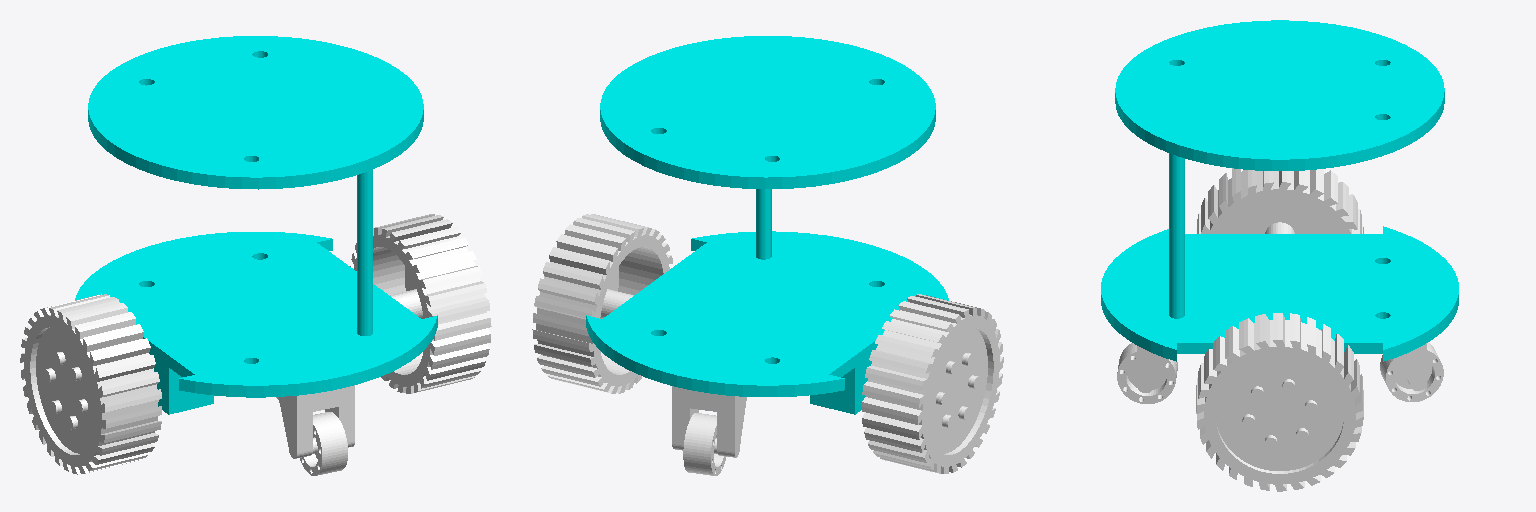
robot.urdf — steven:
<robot
  name="steven">
  <link
    name="base_link">
    <inertial>
      <origin
        xyz="-0.0086281 -0.004071 0.11646"
        rpy="0 0 0" />
      <mass
        value="0.25" />
      <inertia
        ixx="0"
        ixy="0"
        ixz="0"
        iyy="0"
        iyz="0"
        izz="0" />
    </inertial>
    <visual>
      <origin
        xyz="0 0 0"
        rpy="0 0 0" />
      <geometry>
        <mesh
          filename="package://steven/meshes/base_link.STL" />
      </geometry>
      <material
        name="">
        <color
          rgba="0 151 167 1" />
      </material>
    </visual>
    <collision>
      <origin
        xyz="0 0 0"
        rpy="0 0 0" />
      <geometry>
        <mesh
          filename="package://steven/meshes/base_link.STL" />
      </geometry>
    </collision>
  </link>
  <link
    name="motor_izquierdo_link">
    <inertial>
      <origin
        xyz="0.00025823 0.010108 0"
        rpy="0 0 0" />
      <mass
        value="0.75" />
      <inertia
        ixx="0"
        ixy="0"
        ixz="0"
        iyy="0"
        iyz="0"
        izz="0" />
    </inertial>
    <visual>
      <origin
        xyz="0 0 0"
        rpy="0 0 0" />
      <geometry>
        <mesh
          filename="package://steven/meshes/motor_izquierdo_link.STL" />
      </geometry>
      <material
        name="">
        <color
          rgba="0 188 212 1" />
      </material>
    </visual>
    <collision>
      <origin
        xyz="0 0 0"
        rpy="0 0 0" />
      <geometry>
        <mesh
          filename="package://steven/meshes/motor_izquierdo_link.STL" />
      </geometry>
    </collision>
  </link>
  <joint
    name="base_motor_izquierdo_joint"
    type="fixed">
    <origin
      xyz="0.031372 -0.11646 -0.026571"
      rpy="1.5708 0 0" />
    <parent
      link="base_link" />
    <child
      link="motor_izquierdo_link" />
    <axis
      xyz="0 0 0" />
  </joint>
  <link
    name="llanta_izquierda_link">
    <inertial>
      <origin
        xyz="-2.7756E-17 -0.02322 0"
        rpy="0 0 0" />
      <mass
        value="1.25" />
      <inertia
        ixx="0"
        ixy="0"
        ixz="0"
        iyy="0"
        iyz="0"
        izz="0" />
    </inertial>
    <visual>
      <origin
        xyz="0 0 0"
        rpy="0 0 0" />
      <geometry>
        <mesh
          filename="package://steven/meshes/llanta_izquierda_link.STL" />
      </geometry>
      <material
        name="">
        <color
          rgba="35 50 56 1" />
      </material>
    </visual>
    <collision>
      <origin
        xyz="0 0 0"
        rpy="0 0 0" />
      <geometry>
        <mesh
          filename="package://steven/meshes/llanta_izquierda_link.STL" />
      </geometry>
    </collision>
  </link>
  <joint
    name="motor_izquierdo_llanta_izquierda_joint"
    type="continuous">
    <origin
      xyz="0.01 0.01 0"
      rpy="-3.1416 -1.3248 -1.5708" />
    <parent
      link="motor_izquierdo_link" />
    <child
      link="llanta_izquierda_link" />
    <axis
      xyz="0 -1 0" />
  </joint>
  <link
    name="motor_derecho_link">
    <inertial>
      <origin
        xyz="0.00025823 0.010108 -2.7756E-17"
        rpy="0 0 0" />
      <mass
        value="0.75" />
      <inertia
        ixx="0"
        ixy="0"
        ixz="0"
        iyy="0"
        iyz="0"
        izz="0" />
    </inertial>
    <visual>
      <origin
        xyz="0 0 0"
        rpy="0 0 0" />
      <geometry>
        <mesh
          filename="package://steven/meshes/motor_derecho_link.STL" />
      </geometry>
      <material
        name="">
        <color
          rgba="0 188 212 1" />
      </material>
    </visual>
    <collision>
      <origin
        xyz="0 0 0"
        rpy="0 0 0" />
      <geometry>
        <mesh
          filename="package://steven/meshes/motor_derecho_link.STL" />
      </geometry>
    </collision>
  </link>
  <joint
    name="base_motor_derecho_joint"
    type="fixed">
    <origin
      xyz="-0.048628 -0.11646 -0.026571"
      rpy="1.5708 0 3.1416" />
    <parent
      link="base_link" />
    <child
      link="motor_derecho_link" />
    <axis
      xyz="0 0 0" />
  </joint>
  <link
    name="llanta_derecha_link">
    <inertial>
      <origin
        xyz="-8.3267E-17 -0.02322 7.2858E-17"
        rpy="0 0 0" />
      <mass
        value="1.25" />
      <inertia
        ixx="0"
        ixy="0"
        ixz="0"
        iyy="0"
        iyz="0"
        izz="0" />
    </inertial>
    <visual>
      <origin
        xyz="0 0 0"
        rpy="0 0 0" />
      <geometry>
        <mesh
          filename="package://steven/meshes/llanta_derecha_link.STL" />
      </geometry>
      <material
        name="">
        <color
          rgba="35 50 56 1" />
      </material>
    </visual>
    <collision>
      <origin
        xyz="0 0 0"
        rpy="0 0 0" />
      <geometry>
        <mesh
          filename="package://steven/meshes/llanta_derecha_link.STL" />
      </geometry>
    </collision>
  </link>
  <joint
    name="motor_derecho_llanta_derecha_joint"
    type="continuous">
    <origin
      xyz="0.01 0.01 0"
      rpy="3.1416 1.4507 -1.5708" />
    <parent
      link="motor_derecho_link" />
    <child
      link="llanta_derecha_link" />
    <axis
      xyz="0 1 0" />
  </joint>
  <link
    name="caja_delantera_link">
    <inertial>
      <origin
        xyz="0 0.0025 -1.7347E-18"
        rpy="0 0 0" />
      <mass
        value="0.125" />
      <inertia
        ixx="0"
        ixy="0"
        ixz="0"
        iyy="0"
        iyz="0"
        izz="0" />
    </inertial>
    <visual>
      <origin
        xyz="0 0 0"
        rpy="0 0 0" />
      <geometry>
        <mesh
          filename="package://steven/meshes/caja_delantera_link.STL" />
      </geometry>
      <material
        name="">
        <color
          rgba="0 188 212 1" />
      </material>
    </visual>
    <collision>
      <origin
        xyz="0 0 0"
        rpy="0 0 0" />
      <geometry>
        <mesh
          filename="package://steven/meshes/caja_delantera_link.STL" />
      </geometry>
    </collision>
  </link>
  <joint
    name="base_caja_delantera_joint"
    type="fixed">
    <origin
      xyz="-0.0086281 -0.15646 -0.011571"
      rpy="1.5708 6.123E-17 1.5708" />
    <parent
      link="base_link" />
    <child
      link="caja_delantera_link" />
    <axis
      xyz="0 0 0" />
  </joint>
  <link
    name="soporte_delantero_link">
    <inertial>
      <origin
        xyz="0.0046892 0.0091648 -7.4593E-17"
        rpy="0 0 0" />
      <mass
        value="0.25" />
      <inertia
        ixx="0"
        ixy="0"
        ixz="0"
        iyy="0"
        iyz="0"
        izz="0" />
    </inertial>
    <visual>
      <origin
        xyz="0 0 0"
        rpy="0 0 0" />
      <geometry>
        <mesh
          filename="package://steven/meshes/soporte_delantero_link.STL" />
      </geometry>
      <material
        name="">
        <color
          rgba="144 164 174 1" />
      </material>
    </visual>
    <collision>
      <origin
        xyz="0 0 0"
        rpy="0 0 0" />
      <geometry>
        <mesh
          filename="package://steven/meshes/soporte_delantero_link.STL" />
      </geometry>
    </collision>
  </link>
  <joint
    name="caja_delantera_soporte_delantero_joint"
    type="continuous">
    <origin
      xyz="0 0 0"
      rpy="7.1251E-15 0.059893 3.1416" />
    <parent
      link="caja_delantera_link" />
    <child
      link="soporte_delantero_link" />
    <axis
      xyz="0 -1 0" />
  </joint>
  <link
    name="rueda_loca_delantera_link">
    <inertial>
      <origin
        xyz="1.1102E-16 9.0206E-17 -4.3021E-16"
        rpy="0 0 0" />
      <mass
        value="0.5" />
      <inertia
        ixx="0"
        ixy="0"
        ixz="0"
        iyy="0"
        iyz="0"
        izz="0" />
    </inertial>
    <visual>
      <origin
        xyz="0 0 0"
        rpy="0 0 0" />
      <geometry>
        <mesh
          filename="package://steven/meshes/rueda_loca_delantera_link.STL" />
      </geometry>
      <material
        name="">
        <color
          rgba="69 90 100 1" />
      </material>
    </visual>
    <collision>
      <origin
        xyz="0 0 0"
        rpy="0 0 0" />
      <geometry>
        <mesh
          filename="package://steven/meshes/rueda_loca_delantera_link.STL" />
      </geometry>
    </collision>
  </link>
  <joint
    name="soporte_delantero_rueda_loca_delantera_joint"
    type="continuous">
    <origin
      xyz="0.0115 0.026 0"
      rpy="-1.5708 1.5821E-15 -2.5651" />
    <parent
      link="soporte_delantero_link" />
    <child
      link="rueda_loca_delantera_link" />
    <axis
      xyz="0 -1 0" />
  </joint>
  <link
    name="caja_trasera_link">
    <inertial>
      <origin
        xyz="0 0.0025 1.3878E-17"
        rpy="0 0 0" />
      <mass
        value="0.125" />
      <inertia
        ixx="0"
        ixy="0"
        ixz="0"
        iyy="0"
        iyz="0"
        izz="0" />
    </inertial>
    <visual>
      <origin
        xyz="0 0 0"
        rpy="0 0 0" />
      <geometry>
        <mesh
          filename="package://steven/meshes/caja_trasera_link.STL" />
      </geometry>
      <material
        name="">
        <color
          rgba="0 188 212 1" />
      </material>
    </visual>
    <collision>
      <origin
        xyz="0 0 0"
        rpy="0 0 0" />
      <geometry>
        <mesh
          filename="package://steven/meshes/caja_trasera_link.STL" />
      </geometry>
    </collision>
  </link>
  <joint
    name="base_caja_trasera_joint"
    type="fixed">
    <origin
      xyz="-0.0086281 -0.076459 -0.011571"
      rpy="1.5708 0 0" />
    <parent
      link="base_link" />
    <child
      link="caja_trasera_link" />
    <axis
      xyz="0 0 0" />
  </joint>
  <link
    name="soporte_trasero_link">
    <inertial>
      <origin
        xyz="0.0046892 0.0091648 -1.0408E-17"
        rpy="0 0 0" />
      <mass
        value="0.25" />
      <inertia
        ixx="0"
        ixy="0"
        ixz="0"
        iyy="0"
        iyz="0"
        izz="0" />
    </inertial>
    <visual>
      <origin
        xyz="0 0 0"
        rpy="0 0 0" />
      <geometry>
        <mesh
          filename="package://steven/meshes/soporte_trasero_link.STL" />
      </geometry>
      <material
        name="">
        <color
          rgba="144 164 174 1" />
      </material>
    </visual>
    <collision>
      <origin
        xyz="0 0 0"
        rpy="0 0 0" />
      <geometry>
        <mesh
          filename="package://steven/meshes/soporte_trasero_link.STL" />
      </geometry>
    </collision>
  </link>
  <joint
    name="caja_trasera_soporte_trasero_joint"
    type="continuous">
    <origin
      xyz="0 0 0"
      rpy="-6.638E-15 1.3602 3.1416" />
    <parent
      link="caja_trasera_link" />
    <child
      link="soporte_trasero_link" />
    <axis
      xyz="0 -1 0" />
  </joint>
  <link
    name="rueda_loca_trasera_link">
    <inertial>
      <origin
        xyz="1.3878E-16 0 -4.5103E-16"
        rpy="0 0 0" />
      <mass
        value="0.5" />
      <inertia
        ixx="0"
        ixy="0"
        ixz="0"
        iyy="0"
        iyz="0"
        izz="0" />
    </inertial>
    <visual>
      <origin
        xyz="0 0 0"
        rpy="0 0 0" />
      <geometry>
        <mesh
          filename="package://steven/meshes/rueda_loca_trasera_link.STL" />
      </geometry>
      <material
        name="">
        <color
          rgba="69 90 100 1" />
      </material>
    </visual>
    <collision>
      <origin
        xyz="0 0 0"
        rpy="0 0 0" />
      <geometry>
        <mesh
          filename="package://steven/meshes/rueda_loca_trasera_link.STL" />
      </geometry>
    </collision>
  </link>
  <joint
    name="soporte_trasero_rueda_loca_trasera_joint"
    type="continuous">
    <origin
      xyz="0.0115 0.026 0"
      rpy="1.5708 1.6653E-16 -0.58323" />
    <parent
      link="soporte_trasero_link" />
    <child
      link="rueda_loca_trasera_link" />
    <axis
      xyz="0 -1 0" />
  </joint>
  <link
    name="palo1_link">
    <inertial>
      <origin
        xyz="0 0.045 0"
        rpy="0 0 0" />
      <mass
        value="0.125" />
      <inertia
        ixx="0"
        ixy="0"
        ixz="0"
        iyy="0"
        iyz="0"
        izz="0" />
    </inertial>
    <visual>
      <origin
        xyz="0 0 0"
        rpy="0 0 0" />
      <geometry>
        <mesh
          filename="package://steven/meshes/palo1_link.STL" />
      </geometry>
      <material
        name="">
        <color
          rgba="0 96 100 1" />
      </material>
    </visual>
    <collision>
      <origin
        xyz="0 0 0"
        rpy="0 0 0" />
      <geometry>
        <mesh
          filename="package://steven/meshes/palo1_link.STL" />
      </geometry>
    </collision>
  </link>
  <joint
    name="base_palo1_joint"
    type="fixed">
    <origin
      xyz="-0.033628 -0.15646 -0.006571"
      rpy="1.5708 0 0" />
    <parent
      link="base_link" />
    <child
      link="palo1_link" />
    <axis
      xyz="0 0 0" />
  </joint>
  <link
    name="tapa1_link">
    <inertial>
      <origin
        xyz="0 0.0025 -1.3878E-17"
        rpy="0 0 0" />
      <mass
        value="0.25" />
      <inertia
        ixx="0"
        ixy="0"
        ixz="0"
        iyy="0"
        iyz="0"
        izz="0" />
    </inertial>
    <visual>
      <origin
        xyz="0 0 0"
        rpy="0 0 0" />
      <geometry>
        <mesh
          filename="package://steven/meshes/tapa1_link.STL" />
      </geometry>
      <material
        name="">
        <color
          rgba="0 151 167 1" />
      </material>
    </visual>
    <collision>
      <origin
        xyz="0 0 0"
        rpy="0 0 0" />
      <geometry>
        <mesh
          filename="package://steven/meshes/tapa1_link.STL" />
      </geometry>
    </collision>
  </link>
  <joint
    name="palo1_tapa1_joint"
    type="fixed">
    <origin
      xyz="0.025 0.085 -0.04"
      rpy="0 0 0" />
    <parent
      link="palo1_link" />
    <child
      link="tapa1_link" />
    <axis
      xyz="0 0 0" />
  </joint>
  <link
    name="palo2_link">
    <inertial>
      <origin
        xyz="0 0.045 0"
        rpy="0 0 0" />
      <mass
        value="0.125" />
      <inertia
        ixx="0"
        ixy="0"
        ixz="0"
        iyy="0"
        iyz="0"
        izz="0" />
    </inertial>
    <visual>
      <origin
        xyz="0 0 0"
        rpy="0 0 0" />
      <geometry>
        <mesh
          filename="package://steven/meshes/palo2_link.STL" />
      </geometry>
      <material
        name="">
        <color
          rgba="0 96 100 1" />
      </material>
    </visual>
    <collision>
      <origin
        xyz="0 0 0"
        rpy="0 0 0" />
      <geometry>
        <mesh
          filename="package://steven/meshes/palo2_link.STL" />
      </geometry>
    </collision>
  </link>
  <joint
    name="base_palo2_joint"
    type="fixed">
    <origin
      xyz="0.016372 -0.15646 -0.006571"
      rpy="1.5708 0 0" />
    <parent
      link="base_link" />
    <child
      link="palo2_link" />
    <axis
      xyz="0 0 0" />
  </joint>
  <link
    name="tapa2_link">
    <inertial>
      <origin
        xyz="0 0.0025 -1.3878E-17"
        rpy="0 0 0" />
      <mass
        value="0.25" />
      <inertia
        ixx="0"
        ixy="0"
        ixz="0"
        iyy="0"
        iyz="0"
        izz="0" />
    </inertial>
    <visual>
      <origin
        xyz="0 0 0"
        rpy="0 0 0" />
      <geometry>
        <mesh
          filename="package://steven/meshes/tapa2_link.STL" />
      </geometry>
      <material
        name="">
        <color
          rgba="0 151 167 1" />
      </material>
    </visual>
    <collision>
      <origin
        xyz="0 0 0"
        rpy="0 0 0" />
      <geometry>
        <mesh
          filename="package://steven/meshes/tapa2_link.STL" />
      </geometry>
    </collision>
  </link>
  <joint
    name="palo2_tapa2_joint"
    type="fixed">
    <origin
      xyz="-0.025 0.085 -0.04"
      rpy="0 0 0" />
    <parent
      link="palo2_link" />
    <child
      link="tapa2_link" />
    <axis
      xyz="0 0 0" />
  </joint>
  <link
    name="palo3_link">
    <inertial>
      <origin
        xyz="0 0.045 0"
        rpy="0 0 0" />
      <mass
        value="0.125" />
      <inertia
        ixx="0"
        ixy="0"
        ixz="0"
        iyy="0"
        iyz="0"
        izz="0" />
    </inertial>
    <visual>
      <origin
        xyz="0 0 0"
        rpy="0 0 0" />
      <geometry>
        <mesh
          filename="package://steven/meshes/palo3_link.STL" />
      </geometry>
      <material
        name="">
        <color
          rgba="0 96 100 1" />
      </material>
    </visual>
    <collision>
      <origin
        xyz="0 0 0"
        rpy="0 0 0" />
      <geometry>
        <mesh
          filename="package://steven/meshes/palo3_link.STL" />
      </geometry>
    </collision>
  </link>
  <joint
    name="base_palo3_joint"
    type="fixed">
    <origin
      xyz="-0.033628 -0.076459 -0.006571"
      rpy="1.5708 0 0" />
    <parent
      link="base_link" />
    <child
      link="palo3_link" />
    <axis
      xyz="0 0 0" />
  </joint>
  <link
    name="tapa3_link">
    <inertial>
      <origin
        xyz="0 0.0025 -1.3878E-17"
        rpy="0 0 0" />
      <mass
        value="0.25" />
      <inertia
        ixx="0"
        ixy="0"
        ixz="0"
        iyy="0"
        iyz="0"
        izz="0" />
    </inertial>
    <visual>
      <origin
        xyz="0 0 0"
        rpy="0 0 0" />
      <geometry>
        <mesh
          filename="package://steven/meshes/tapa3_link.STL" />
      </geometry>
      <material
        name="">
        <color
          rgba="0 151 167 1" />
      </material>
    </visual>
    <collision>
      <origin
        xyz="0 0 0"
        rpy="0 0 0" />
      <geometry>
        <mesh
          filename="package://steven/meshes/tapa3_link.STL" />
      </geometry>
    </collision>
  </link>
  <joint
    name="palo3_tapa3_joint"
    type="fixed">
    <origin
      xyz="0.025 0.085 0.04"
      rpy="0 0 0" />
    <parent
      link="palo3_link" />
    <child
      link="tapa3_link" />
    <axis
      xyz="0 0 0" />
  </joint>
  <link
    name="palo4_link">
    <inertial>
      <origin
        xyz="0 0.045 0"
        rpy="0 0 0" />
      <mass
        value="0.125" />
      <inertia
        ixx="0"
        ixy="0"
        ixz="0"
        iyy="0"
        iyz="0"
        izz="0" />
    </inertial>
    <visual>
      <origin
        xyz="0 0 0"
        rpy="0 0 0" />
      <geometry>
        <mesh
          filename="package://steven/meshes/palo4_link.STL" />
      </geometry>
      <material
        name="">
        <color
          rgba="0 96 100 1" />
      </material>
    </visual>
    <collision>
      <origin
        xyz="0 0 0"
        rpy="0 0 0" />
      <geometry>
        <mesh
          filename="package://steven/meshes/palo4_link.STL" />
      </geometry>
    </collision>
  </link>
  <joint
    name="base_palo4_joint"
    type="fixed">
    <origin
      xyz="0.016372 -0.076459 -0.006571"
      rpy="1.5708 0 0" />
    <parent
      link="base_link" />
    <child
      link="palo4_link" />
    <axis
      xyz="0 0 0" />
  </joint>
  <link
    name="tapa4_link">
    <inertial>
      <origin
        xyz="0 0.0025 -1.3878E-17"
        rpy="0 0 0" />
      <mass
        value="0.25" />
      <inertia
        ixx="0"
        ixy="0"
        ixz="0"
        iyy="0"
        iyz="0"
        izz="0" />
    </inertial>
    <visual>
      <origin
        xyz="0 0 0"
        rpy="0 0 0" />
      <geometry>
        <mesh
          filename="package://steven/meshes/tapa4_link.STL" />
      </geometry>
      <material
        name="">
        <color
          rgba="0 151 167 1" />
      </material>
    </visual>
    <collision>
      <origin
        xyz="0 0 0"
        rpy="0 0 0" />
      <geometry>
        <mesh
          filename="package://steven/meshes/tapa4_link.STL" />
      </geometry>
    </collision>
  </link>
  <joint
    name="palo4_tapa4_joint"
    type="fixed">
    <origin
      xyz="-0.025 0.085 0.04"
      rpy="0 0 0" />
    <parent
      link="palo4_link" />
    <child
      link="tapa4_link" />
    <axis
      xyz="0 0 0" />
  </joint>
</robot>

--- Render facts (derived) ---
3 views of the same robot in one strip: view 1: azimuth 30°, elevation 25°; view 2: azimuth 150°, elevation 25°; view 3: azimuth 270°, elevation 25° (orthographic).
Model steven with 19 links and 18 joints (6 continuous, 12 fixed), rooted at base_link, posed all joints at 0.
Links seen in each view (by area): view 1: tapa2_link, base_link, llanta_derecha_link, llanta_izquierda_link, soporte_delantero_link, palo2_link, rueda_loca_delantera_link, motor_derecho_link; view 2: tapa2_link, base_link, llanta_derecha_link, llanta_izquierda_link, soporte_trasero_link, rueda_loca_trasera_link, motor_derecho_link, palo2_link; view 3: tapa2_link, base_link, llanta_izquierda_link, llanta_derecha_link, palo2_link, rueda_loca_delantera_link, rueda_loca_trasera_link, soporte_delantero_link, soporte_trasero_link.
Boxes of the visible links, box(x1,y1,x2,y2) form: tapa2_link: box(88, 36, 423, 189); base_link: box(75, 232, 437, 397); llanta_derecha_link: box(20, 294, 161, 474); llanta_izquierda_link: box(350, 214, 491, 393); soporte_delantero_link: box(276, 385, 354, 458); palo2_link: box(357, 128, 372, 335); rueda_loca_delantera_link: box(300, 412, 347, 475); motor_derecho_link: box(149, 327, 213, 414); tapa2_link: box(600, 36, 935, 188); base_link: box(586, 231, 948, 396); llanta_derecha_link: box(862, 294, 1003, 473); llanta_izquierda_link: box(532, 214, 672, 393); soporte_trasero_link: box(672, 386, 746, 457); rueda_loca_trasera_link: box(683, 413, 725, 475); motor_derecho_link: box(810, 327, 871, 414); palo2_link: box(756, 51, 771, 259); tapa2_link: box(1115, 20, 1444, 170); base_link: box(1101, 226, 1458, 361); llanta_izquierda_link: box(1196, 313, 1363, 491); llanta_derecha_link: box(1196, 168, 1363, 233); palo2_link: box(1169, 114, 1184, 318); rueda_loca_delantera_link: box(1117, 343, 1177, 403); rueda_loca_trasera_link: box(1380, 342, 1443, 401); soporte_delantero_link: box(1137, 346, 1168, 392); soporte_trasero_link: box(1395, 343, 1426, 390).
Bounding box of the posed robot: 0.17 × 0.1393 × 0.1325 m (x, y, z).
13 mesh visuals loaded from 19 distinct referenced files (13 binary STL); not drawn: 6 (reference not matched to a file when rendering).
